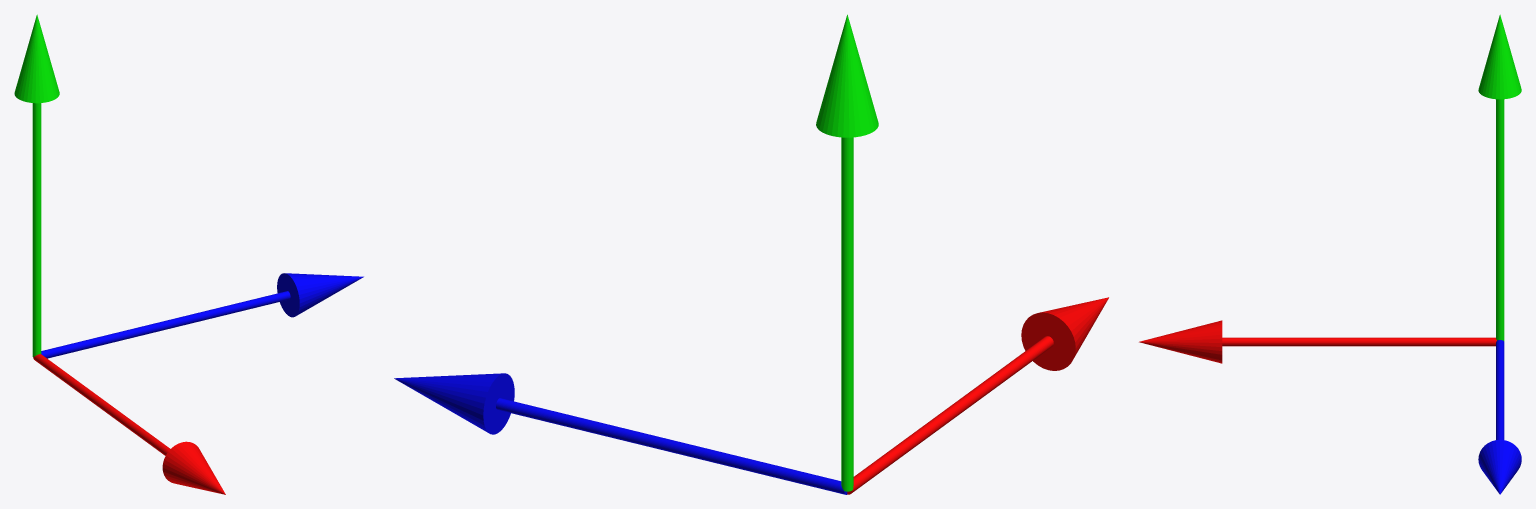
Rendered from Poster_unity_pos.fbx.
The picture shows the model from 3 angles, left to right: view 1: azimuth 30°, elevation 25°; view 2: azimuth 150°, elevation 25°; view 3: azimuth 270°, elevation 25°; orthographic projection. The views are drawn at different scales.
Parts seen in each view (by area): view 1: 矢印G, 矢印B, 矢印R; view 2: 矢印G, 矢印B, 矢印R; view 3: 矢印R, 矢印G, 矢印B.
Boxes of the visible parts, box(x1,y1,x2,y2) form: 矢印G: box(14, 14, 59, 357); 矢印B: box(41, 273, 363, 358); 矢印R: box(33, 354, 225, 494); 矢印G: box(816, 14, 878, 491); 矢印B: box(394, 373, 847, 494); 矢印R: box(847, 297, 1108, 494); 矢印R: box(1139, 320, 1496, 363); 矢印G: box(1478, 14, 1521, 341); 矢印B: box(1478, 340, 1521, 494).
Bounding box in the file's own units: 228 × 228 × 228.
